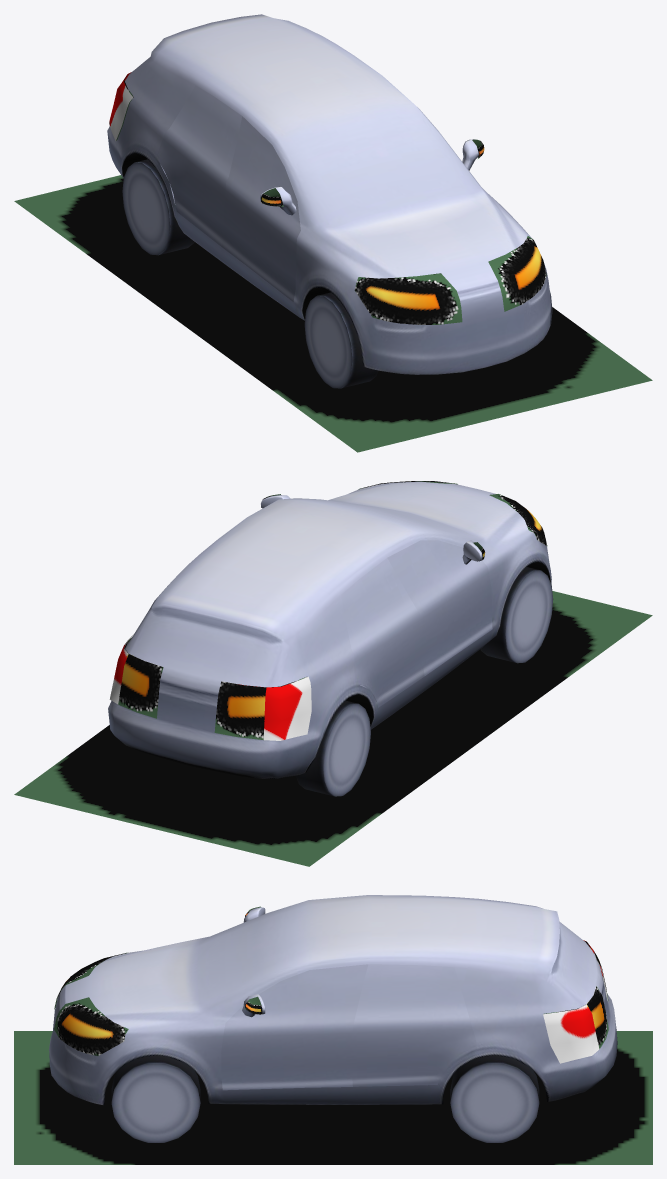
File: SUV.fbx
The picture shows the model from 3 angles, top to bottom: view 1: azimuth 30°, elevation 25°; view 2: azimuth 150°, elevation 25°; view 3: azimuth 270°, elevation 25°; orthographic projection. The views are drawn at different scales.
Parts seen in each view (by area): view 1: CA_Car, CA_Shadow, CA_RF, CA_RB, CA_RDirection, CA_W_RF, CA_WB, CA_LDirection, CA_Stop; view 2: CA_Car, CA_Shadow, CA_RF, CA_RB, CA_WB, CA_W_RF, CA_RDirection, CA_Stop, CA_LDirection; view 3: CA_Car, CA_Shadow, CA_LF, CA_LB, CA_W_LF, CA_WB, CA_LDirection, CA_Stop, CA_RDirection.
Boxes of the visible parts, box(x1,y1,x2,y2) form: CA_Car: box(107, 14, 550, 374); CA_Shadow: box(14, 175, 652, 452); CA_RF: box(221, 116, 300, 301); CA_RB: box(156, 85, 241, 246); CA_RDirection: box(116, 76, 462, 324); CA_W_RF: box(304, 292, 378, 388); CA_WB: box(122, 159, 194, 255); CA_LDirection: box(472, 139, 546, 311); CA_Stop: box(109, 72, 132, 141); CA_Car: box(108, 481, 551, 779); CA_Shadow: box(14, 591, 652, 866); CA_RF: box(387, 540, 492, 675); CA_RB: box(341, 558, 424, 707); CA_WB: box(295, 700, 370, 796); CA_W_RF: box(480, 567, 553, 663); CA_RDirection: box(214, 494, 547, 739); CA_Stop: box(109, 634, 311, 740); CA_LDirection: box(118, 481, 457, 718); CA_Car: box(49, 895, 617, 1105); CA_Shadow: box(14, 1031, 652, 1164); CA_LF: box(221, 964, 368, 1090); CA_LB: box(352, 964, 477, 1086); CA_W_LF: box(111, 1055, 200, 1142); CA_WB: box(450, 1055, 539, 1142); CA_LDirection: box(54, 986, 608, 1055); CA_Stop: box(543, 940, 608, 1063); CA_RDirection: box(54, 906, 608, 1009).
Size of the model in its own units: 2.93 by 1.82 by 5.91.
